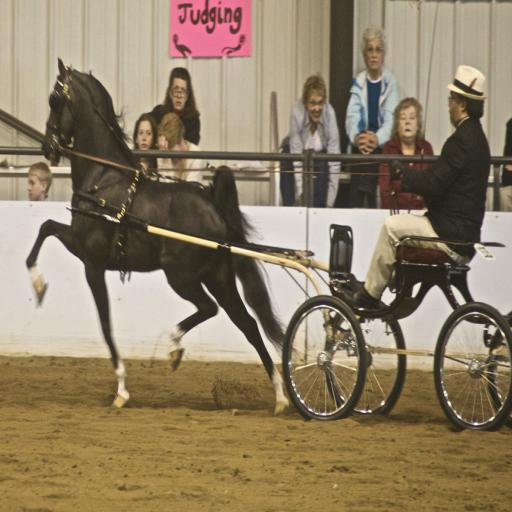horse: (22, 56, 298, 416)
